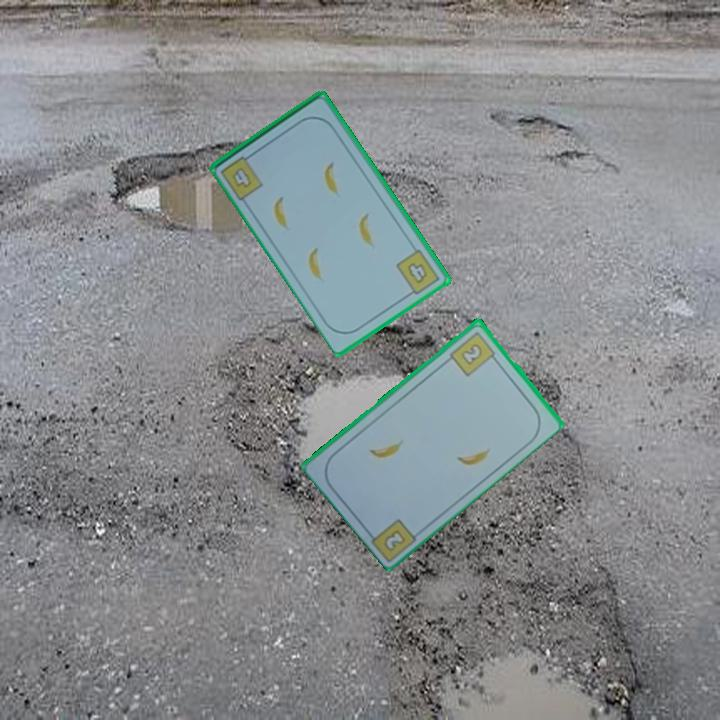2b: (446, 327, 500, 379), (380, 526, 408, 554)
4b: (392, 245, 443, 300), (217, 149, 266, 203)
